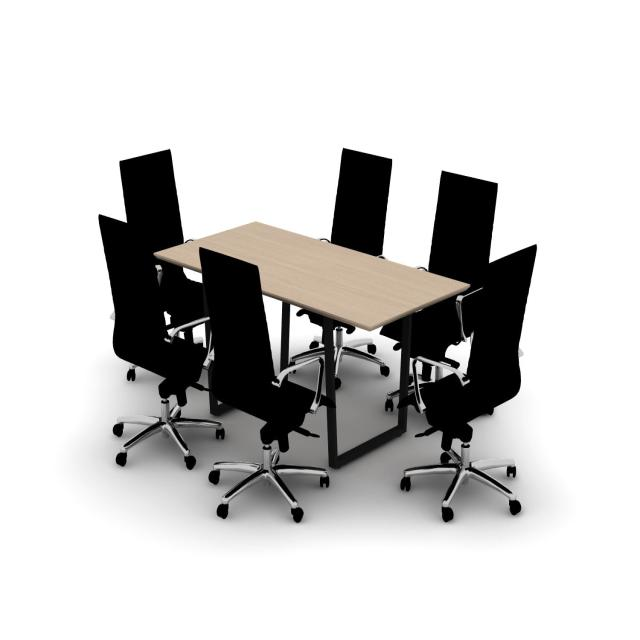chair: (399, 243, 537, 522), (198, 245, 336, 523), (98, 213, 225, 470), (380, 170, 498, 413), (292, 147, 392, 389)
